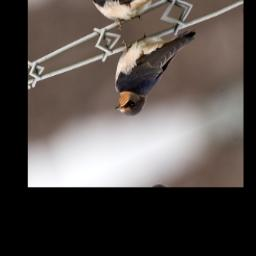Swallow: (99, 12, 211, 124)
